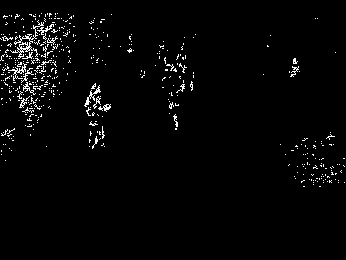person: (86, 82, 111, 152)
